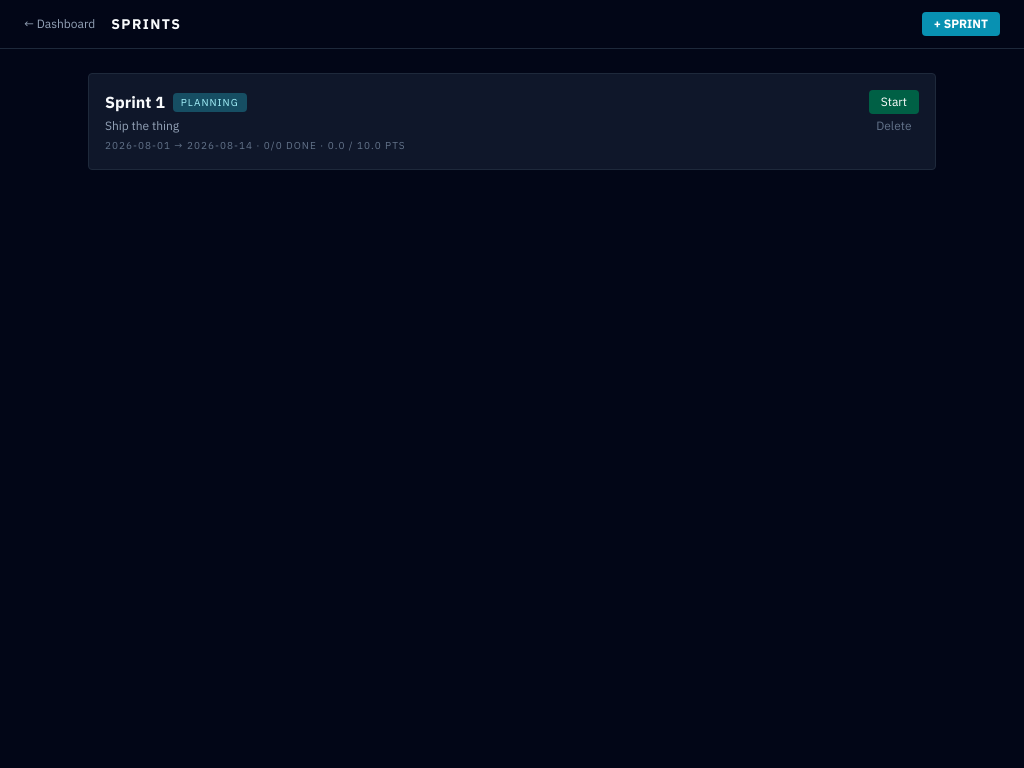
Test: SprintList timestamp boundary › forwards supplied fractional-offset timestamps byte-for-byte without mutating the source
The image size is (1024, 768).
Click the button that starts with "Sprint 1" at (135, 102), box [105, 90, 857, 153]
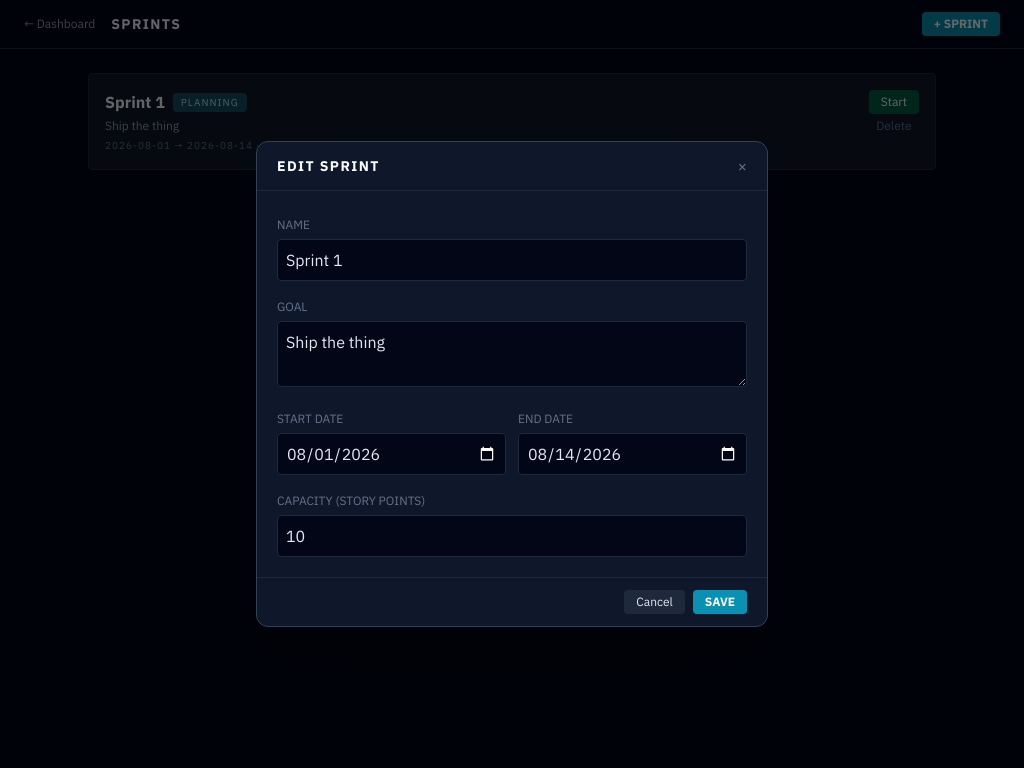
Now the field labelled "Name" is shown
Replace the text in the field labelled "Name" with "Edited timestamp fixture" at (512, 260), box [277, 239, 747, 281]
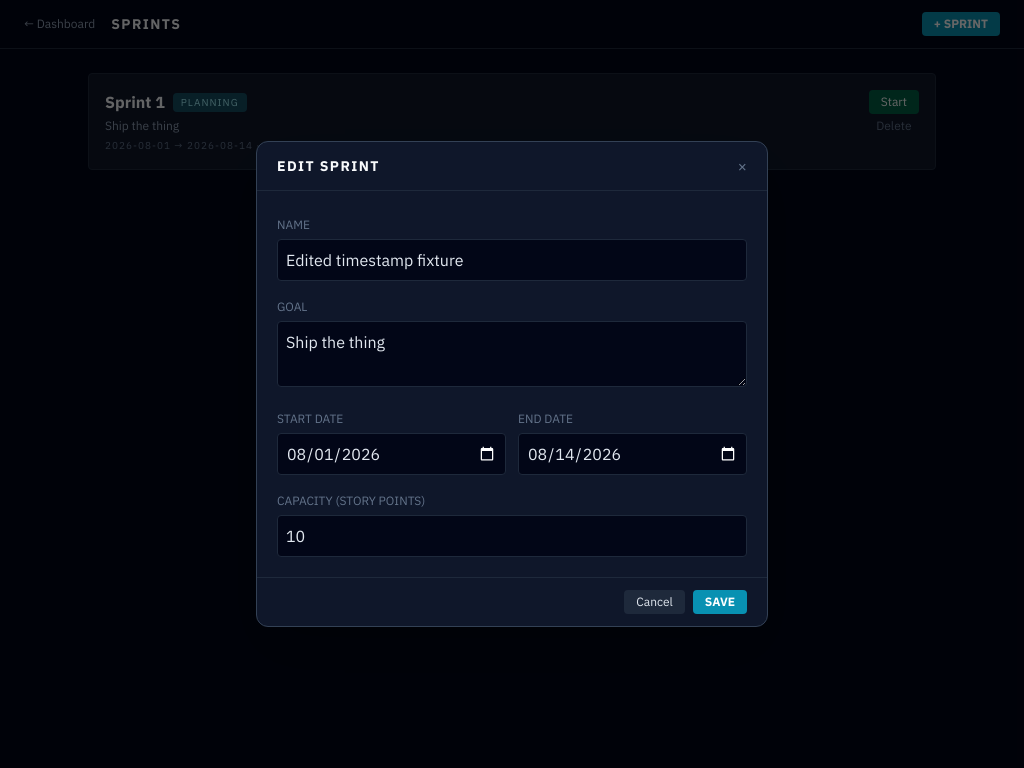
Click the button "Save" at (720, 602), box [693, 590, 747, 614]
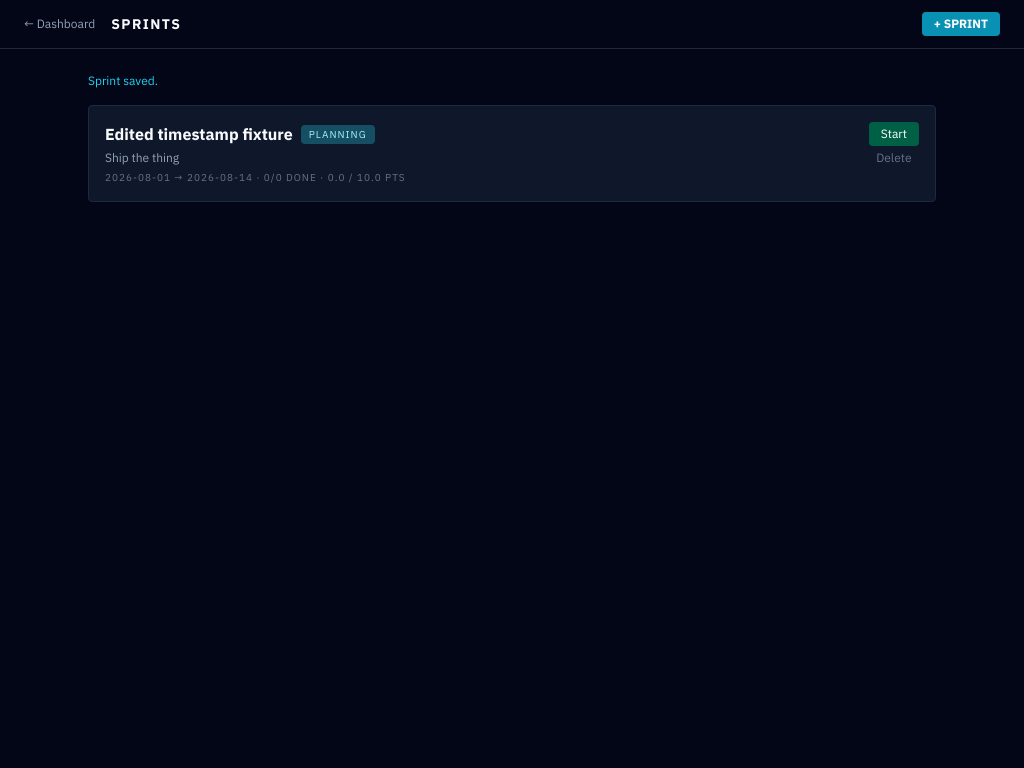
Now the dialog is gone
